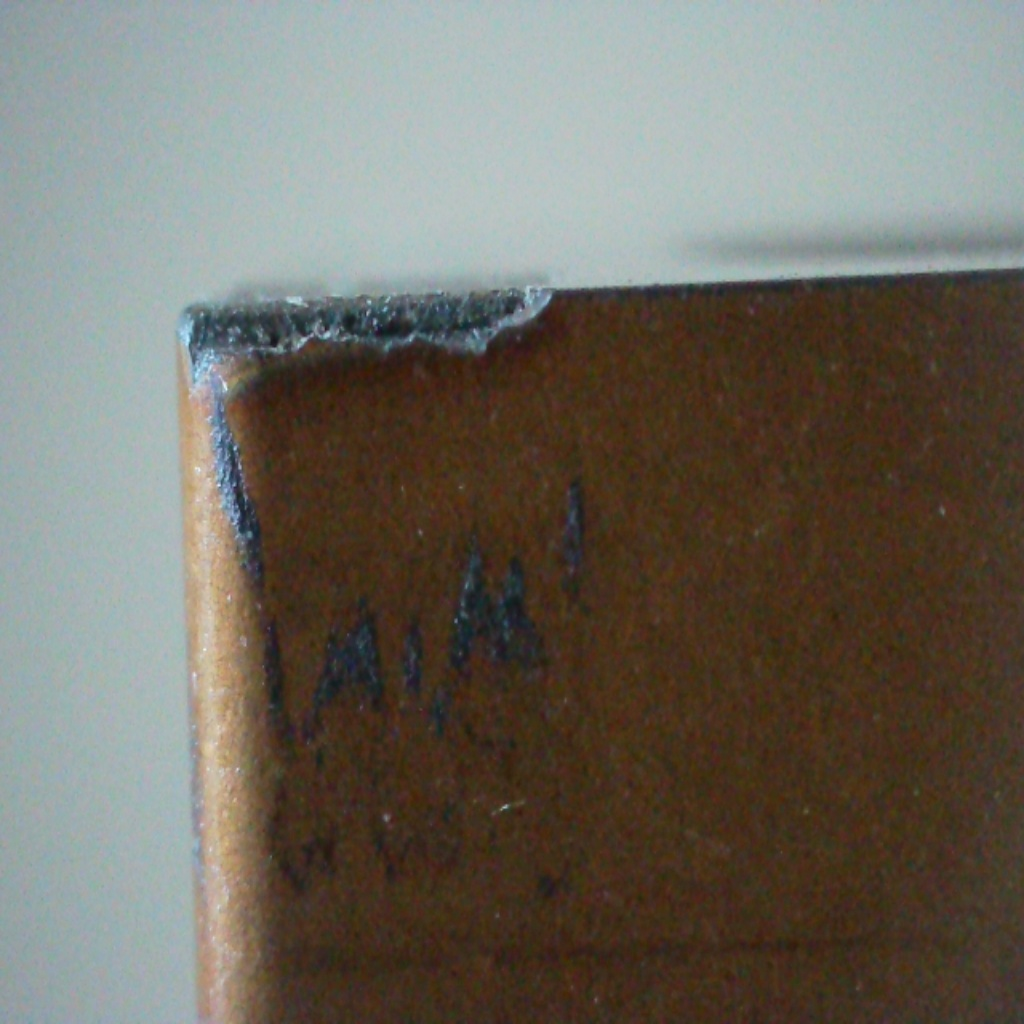flank_wear: (173, 273, 571, 391)
